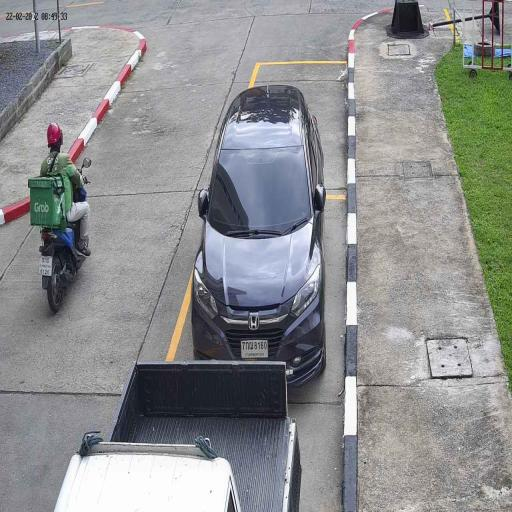car: (190, 82, 326, 390), (53, 360, 303, 512)
motorcycle: (38, 224, 90, 314)
